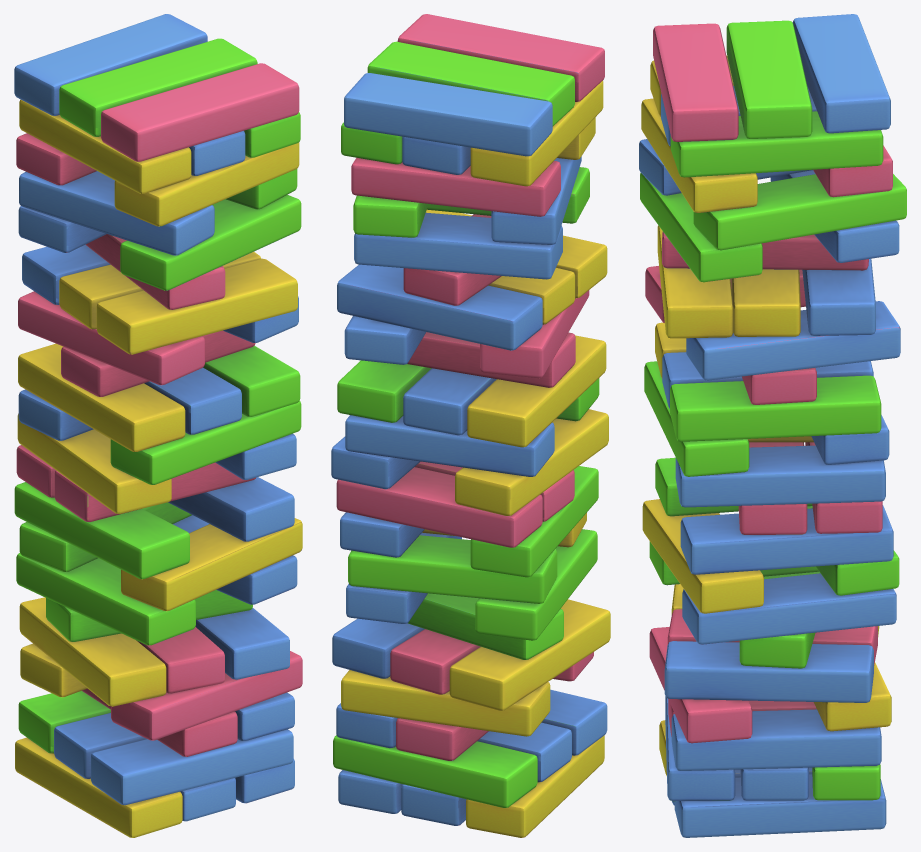
File: jenga.fbx
3 renders of one model, left to right at view 1: azimuth 30°, elevation 25°; view 2: azimuth 150°, elevation 25°; view 3: azimuth 270°, elevation 25°, orthographic. The views are drawn at different scales.
Visible parts, largest first — view 1: jenga; view 2: jenga; view 3: jenga.
Boxes of the visible parts, x1=… form: jenga: x1=14, y1=14, x2=302, y2=837; jenga: x1=331, y1=14, x2=610, y2=837; jenga: x1=639, y1=14, x2=906, y2=837.
Size of the model in its own units: 9.29 by 27.99 by 9.32.
